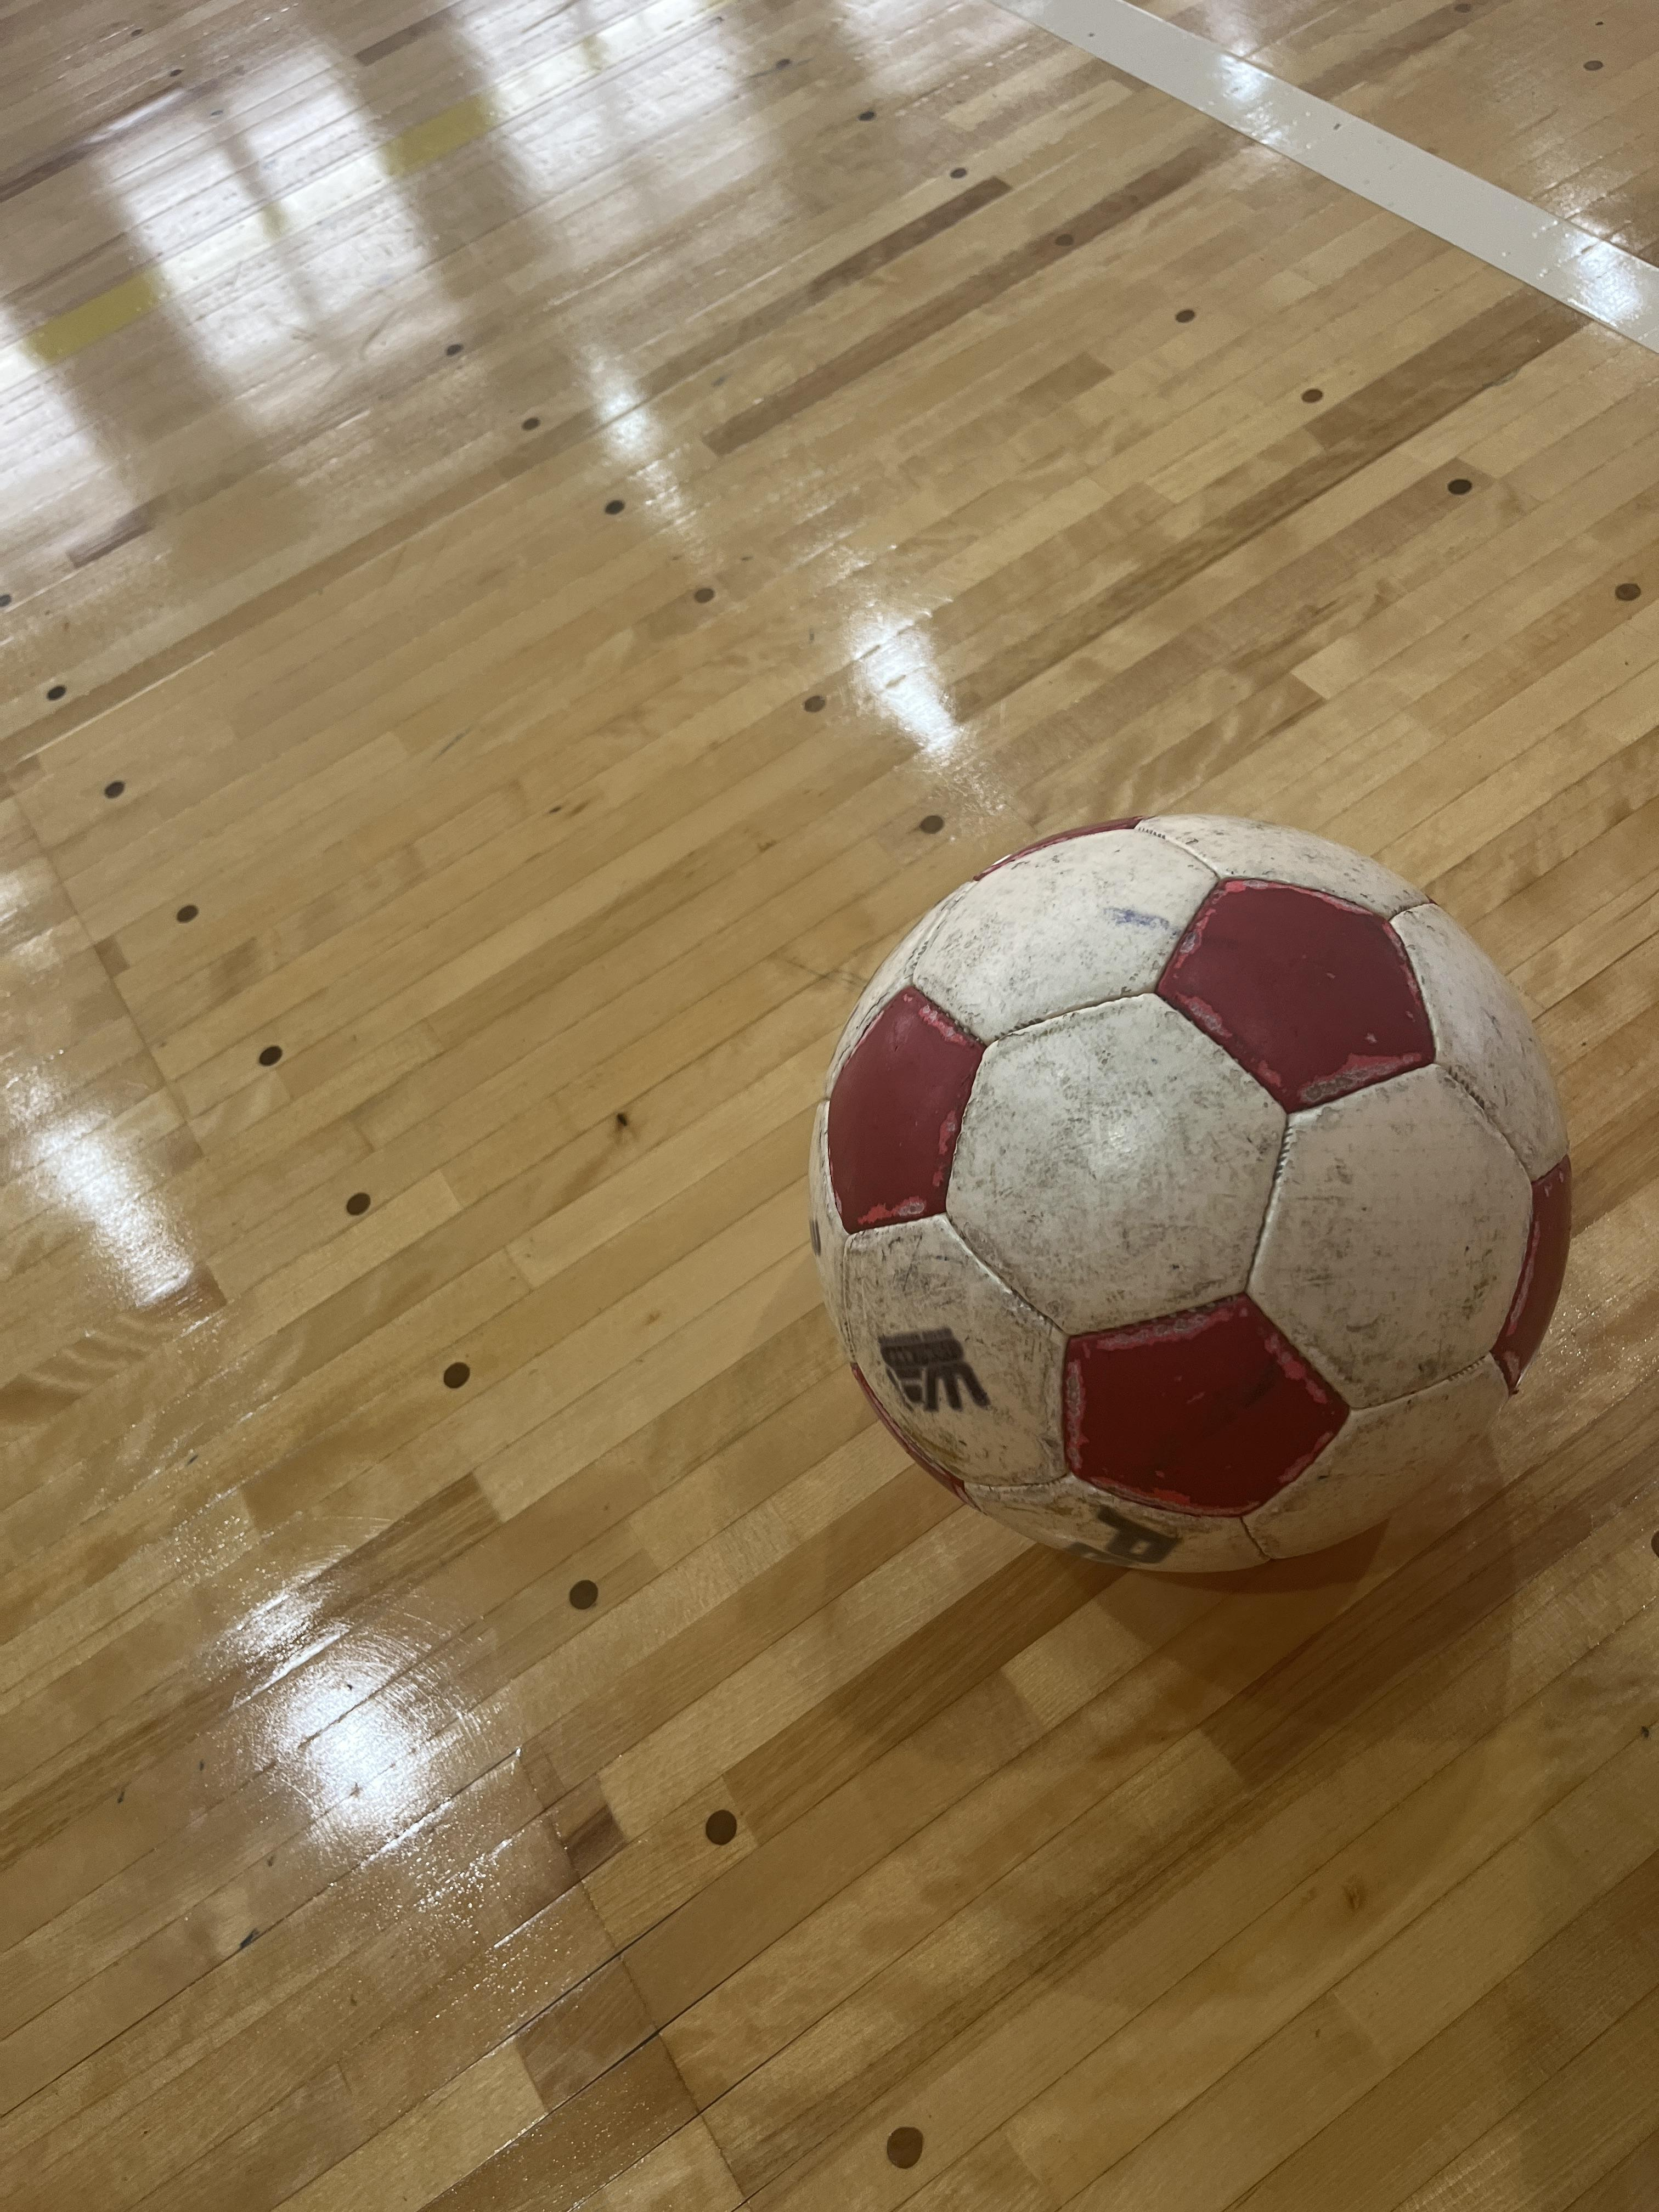Sports-Ball: (803, 812, 1584, 1602)
